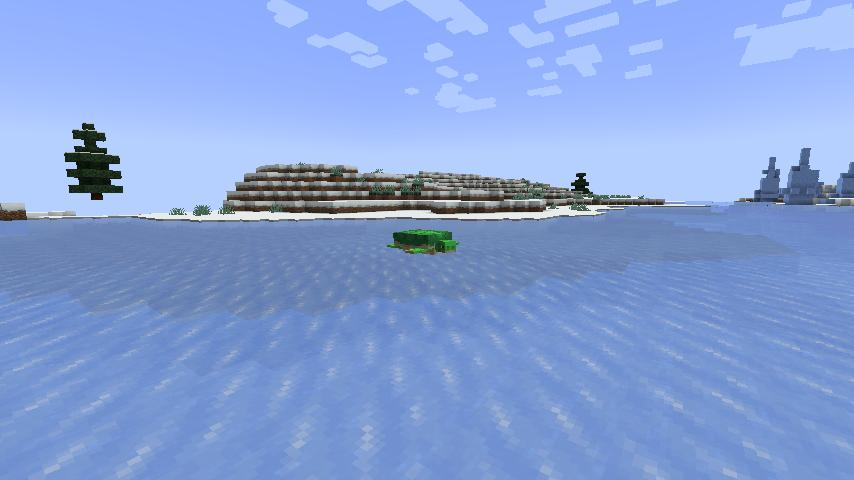turtle: (389, 224, 461, 259)
